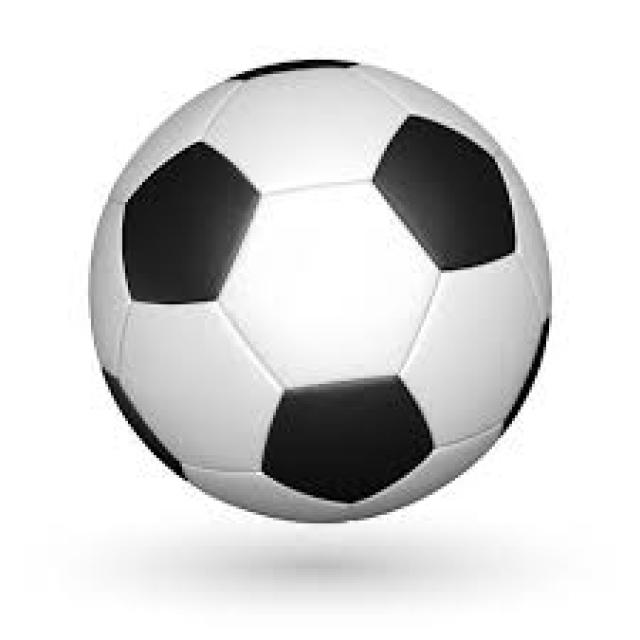ball: (85, 60, 558, 523)
